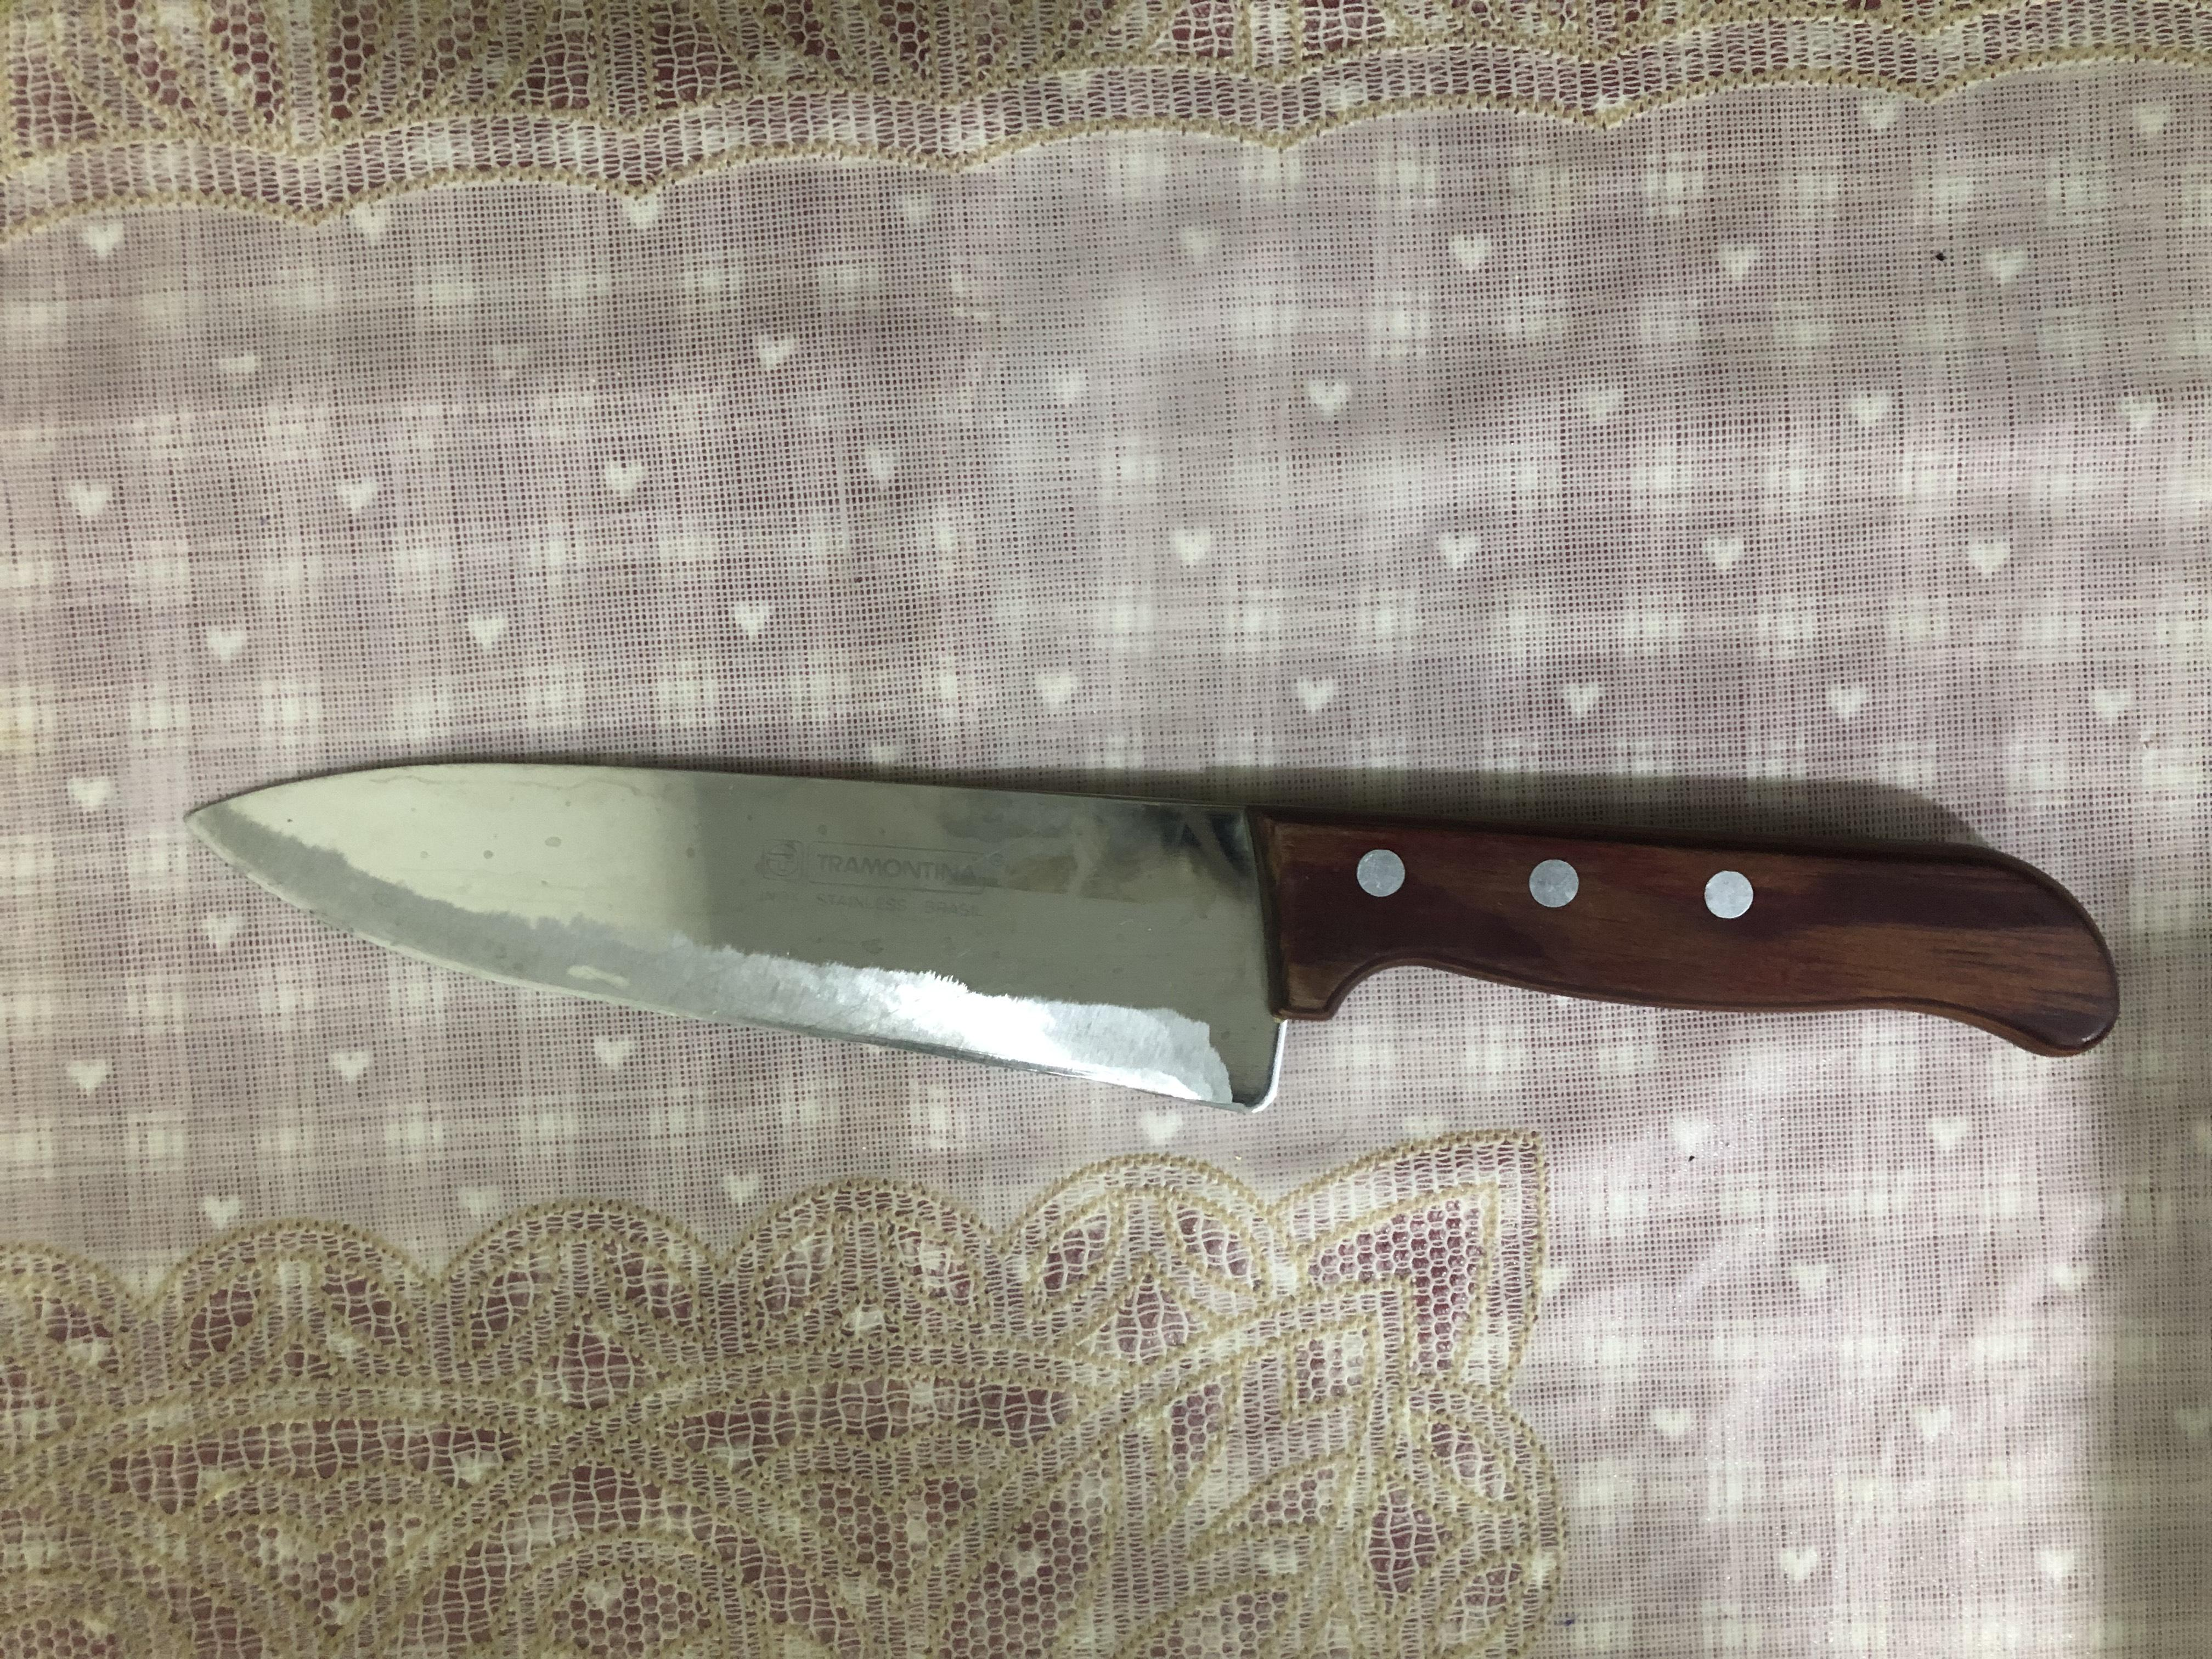weapon: (730, 136, 1216, 1589)
